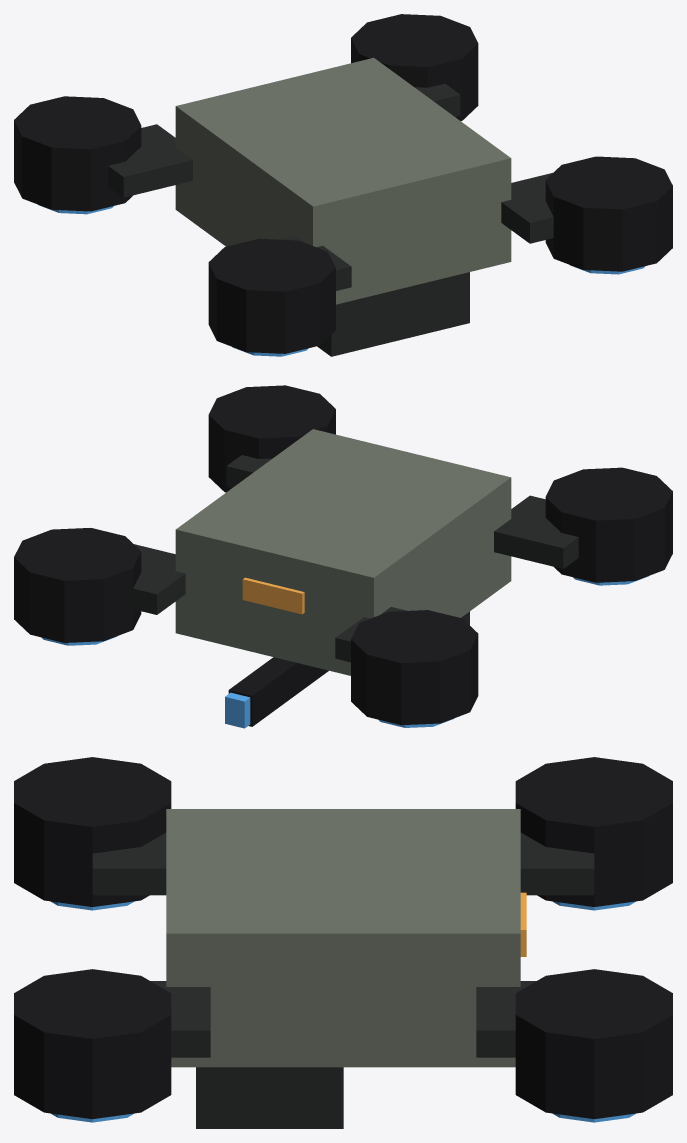
The model's file is ship_XS_MINING_DRONE.obj.
3 views of the same model, one above another, from view 1: azimuth 30°, elevation 25°; view 2: azimuth 150°, elevation 25°; view 3: azimuth 270°, elevation 25° (orthographic). The views are drawn at different scales.
Visible parts, largest first — view 1: XS_MINING_DRONE_Hull-col, XS_MINING_DRONE_Engine, XS_MINING_DRONE_Trim, XS_MINING_DRONE_EngineGlow; view 2: XS_MINING_DRONE_Hull-col, XS_MINING_DRONE_Engine, XS_MINING_DRONE_Trim, XS_MINING_DRONE_Lights, XS_MINING_DRONE_EngineGlow; view 3: XS_MINING_DRONE_Hull-col, XS_MINING_DRONE_Engine, XS_MINING_DRONE_Trim, XS_MINING_DRONE_EngineGlow.
Boxes of the visible parts, x1,y1,x2,y2 form: XS_MINING_DRONE_Hull-col: (175,57,511,304); XS_MINING_DRONE_Engine: (14,14,672,353); XS_MINING_DRONE_Trim: (108,83,553,356); XS_MINING_DRONE_EngineGlow: (38,204,645,356); XS_MINING_DRONE_Hull-col: (175,429,511,675); XS_MINING_DRONE_Engine: (14,385,672,726); XS_MINING_DRONE_Trim: (133,455,578,662); XS_MINING_DRONE_Lights: (242,577,304,614); XS_MINING_DRONE_EngineGlow: (41,576,648,728); XS_MINING_DRONE_Hull-col: (166,809,520,1067); XS_MINING_DRONE_Engine: (14,757,672,1119); XS_MINING_DRONE_Trim: (92,832,594,1128); XS_MINING_DRONE_EngineGlow: (50,901,636,1122).
Size of the model in its own units: 2.26 by 0.8 by 2.23.
